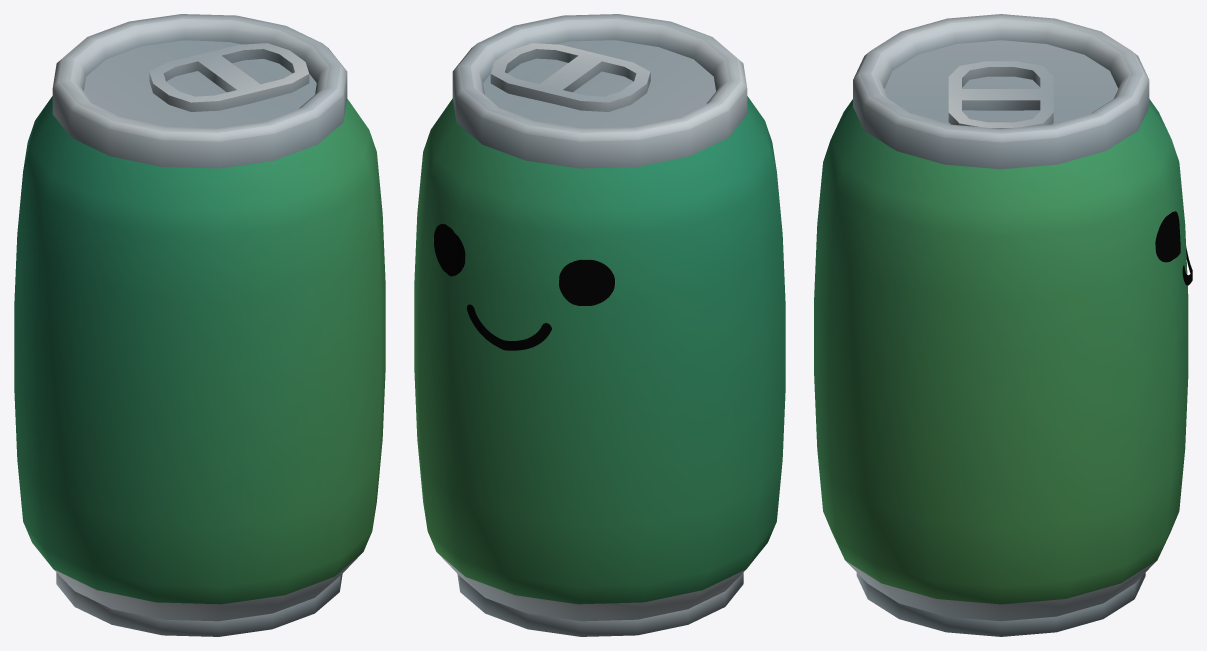
File: can_small_green_smile.fbx
3 renders of one model, left to right at view 1: azimuth 30°, elevation 25°; view 2: azimuth 150°, elevation 25°; view 3: azimuth 270°, elevation 25°, orthographic.
Visible parts, largest first — view 1: can_s_green; view 2: can_s_green, smile_can; view 3: can_s_green, smile_can.
Boxes of the visible parts, x1,y1,x2,y2 form: can_s_green: [14, 14, 385, 636]; can_s_green: [414, 14, 785, 636]; smile_can: [433, 224, 615, 350]; can_s_green: [814, 14, 1188, 636]; smile_can: [1155, 211, 1192, 285].
Size of the model in its own units: 64.77 by 96.96 by 65.55.
